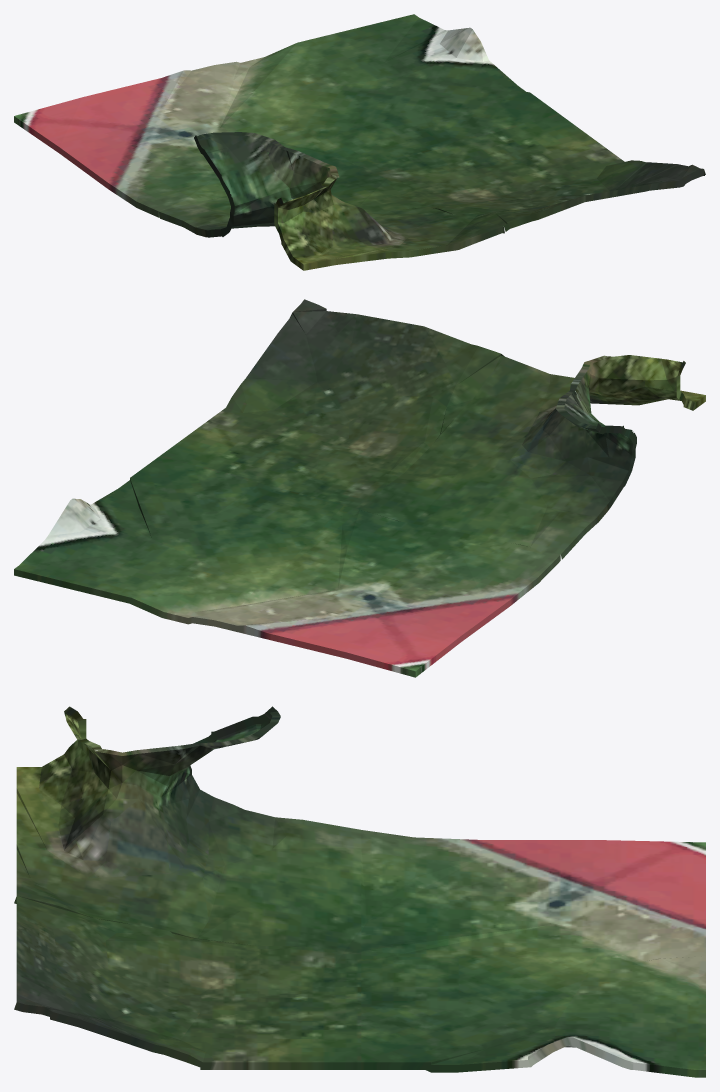
Rendered from BuildingMesh-00201.gltf.
The picture shows the model from 3 angles, top to bottom: view 1: azimuth 30°, elevation 25°; view 2: azimuth 150°, elevation 25°; view 3: azimuth 270°, elevation 25°; orthographic projection. The views are drawn at different scales.
Visible parts, largest first — view 1: BuildingMesh-00201; view 2: BuildingMesh-00201; view 3: BuildingMesh-00201.
Boxes of the visible parts, left/top/right/bottom form: BuildingMesh-00201: left=14, top=14, right=705, bottom=270; BuildingMesh-00201: left=14, top=299, right=705, bottom=677; BuildingMesh-00201: left=14, top=706, right=705, bottom=1077.
Size of the model in its own units: 0.7804 by 0.2275 by 0.9765.
Materials: 1 (1 with a texture image).
